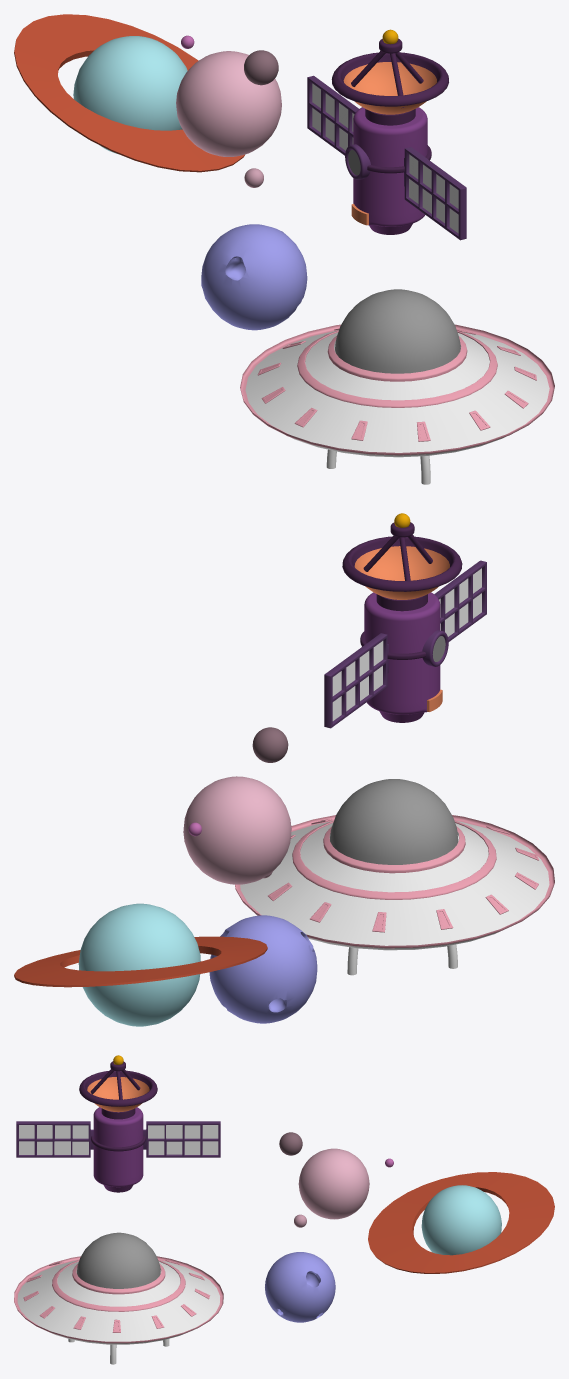
The model's file is ESYA.fbx.
The picture shows the model from 3 angles, top to bottom: view 1: azimuth 30°, elevation 25°; view 2: azimuth 150°, elevation 25°; view 3: azimuth 270°, elevation 25°; orthographic projection. The views are drawn at different scales.
Parts seen in each view (by area): view 1: UZAY_GEMISI, UYDU, GEZEGEN_02, GEZEGEN_01, GEZEGEN_03; view 2: UZAY_GEMISI, UYDU, GEZEGEN_02, GEZEGEN_01, GEZEGEN_03; view 3: UZAY_GEMISI, GEZEGEN_02, UYDU, GEZEGEN_01, GEZEGEN_03.
Part boxes in pixels (x1,y1,x2,y2): UZAY_GEMISI: (240,289,554,484); UYDU: (307,29,466,240); GEZEGEN_02: (14,14,244,172); GEZEGEN_01: (176,35,281,187); GEZEGEN_03: (201,224,307,330); UZAY_GEMISI: (235,779,554,975); UYDU: (324,513,486,728); GEZEGEN_02: (14,903,267,1026); GEZEGEN_01: (183,727,291,884); GEZEGEN_03: (209,915,317,1023); UZAY_GEMISI: (14,1232,223,1364); GEZEGEN_02: (368,1172,554,1273); UYDU: (16,1055,220,1192); GEZEGEN_01: (279,1132,393,1227); GEZEGEN_03: (265,1252,335,1322).
Size of the model in its own units: 591 by 887 by 1525.
